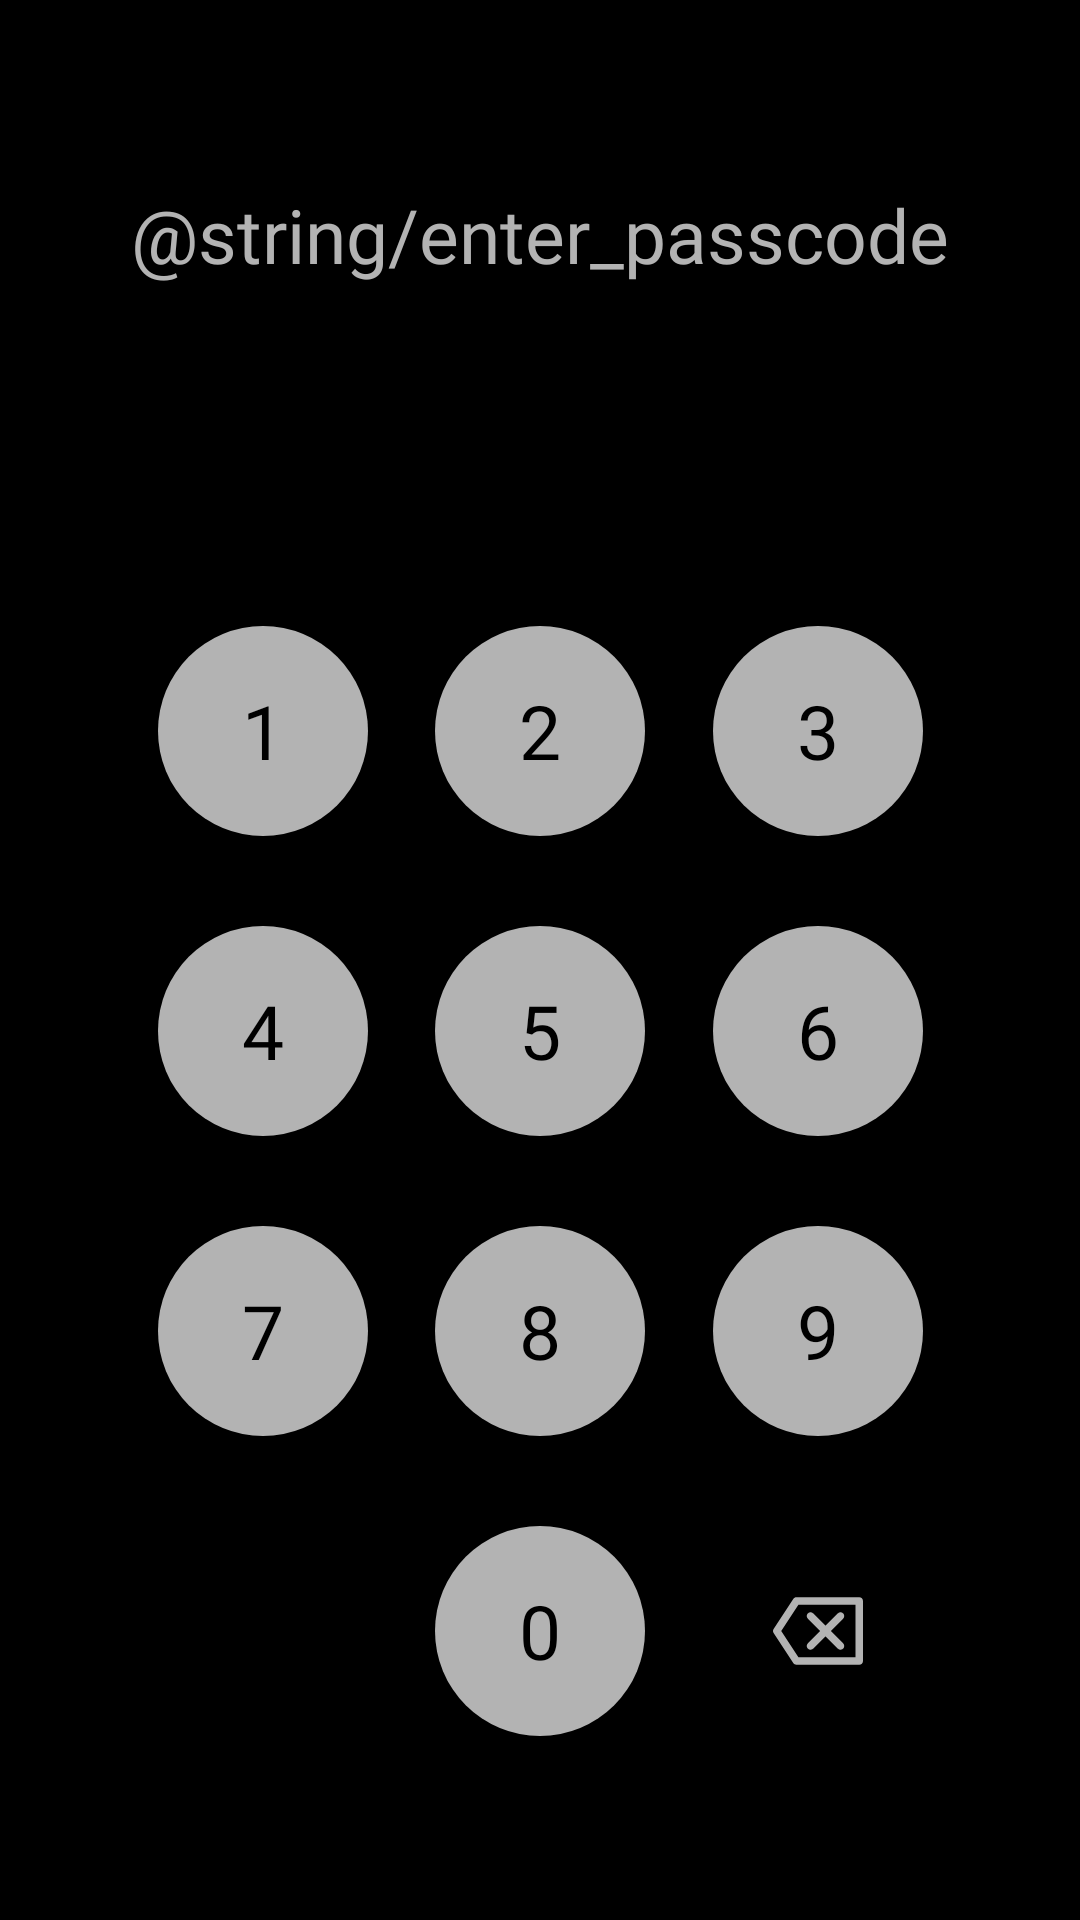

Icons on this 1080x1920 Android screen, each with its box as (x1, y1, x2, y2):
backspace: (773, 1597, 863, 1665)
